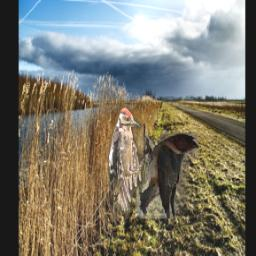Swallow: (136, 133, 198, 219)
Woodpecker: (109, 109, 145, 223)
